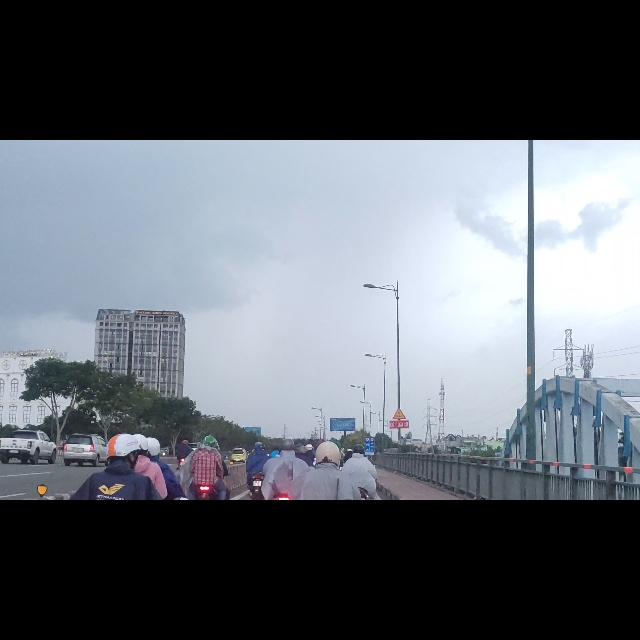bien_chi_dan: (391, 475, 407, 498)
